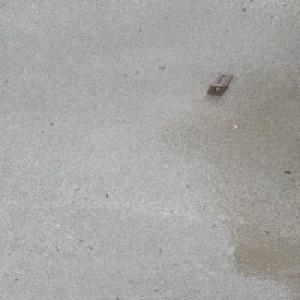MetalPart: (205, 72, 234, 96)
